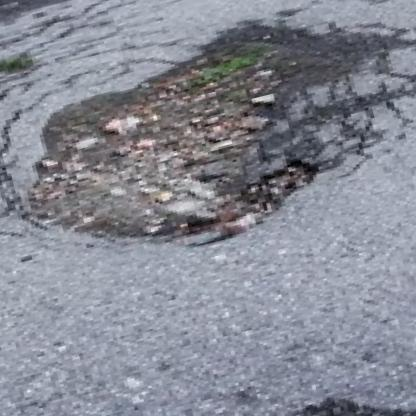pothole: (0, 15, 362, 287)
